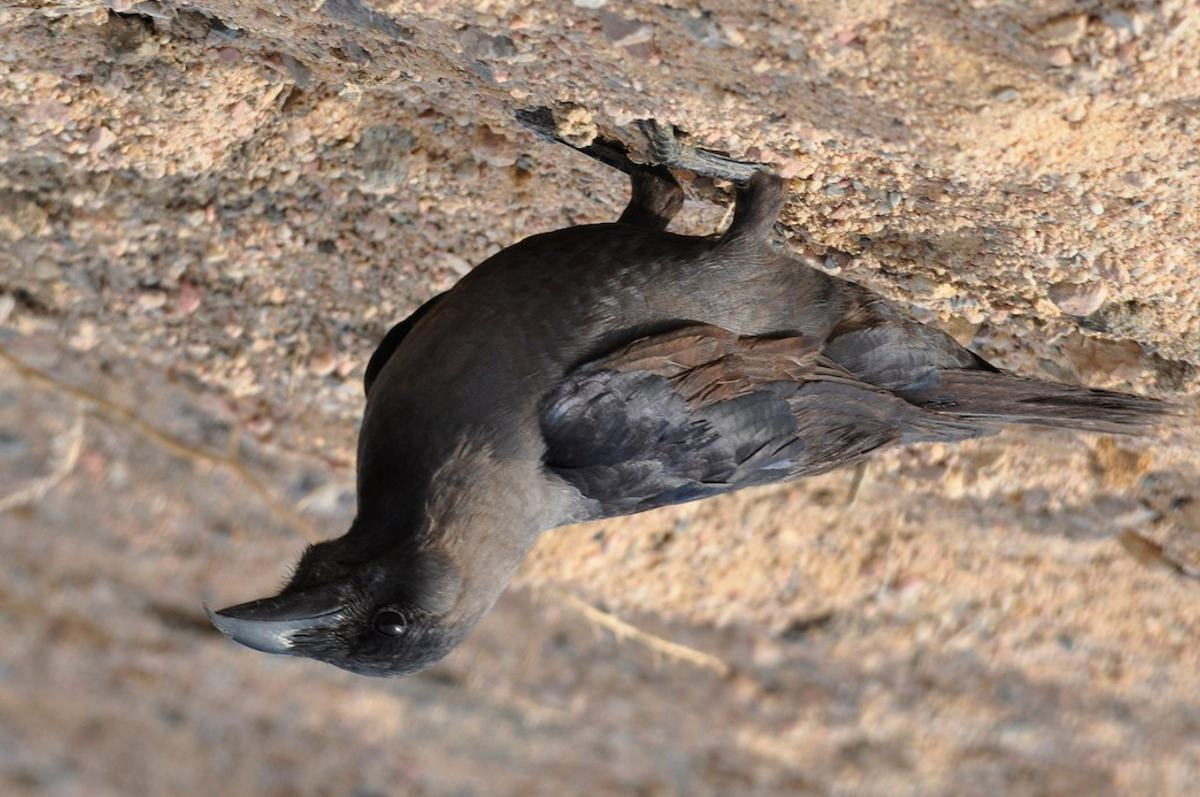crow: (188, 156, 1130, 674)
